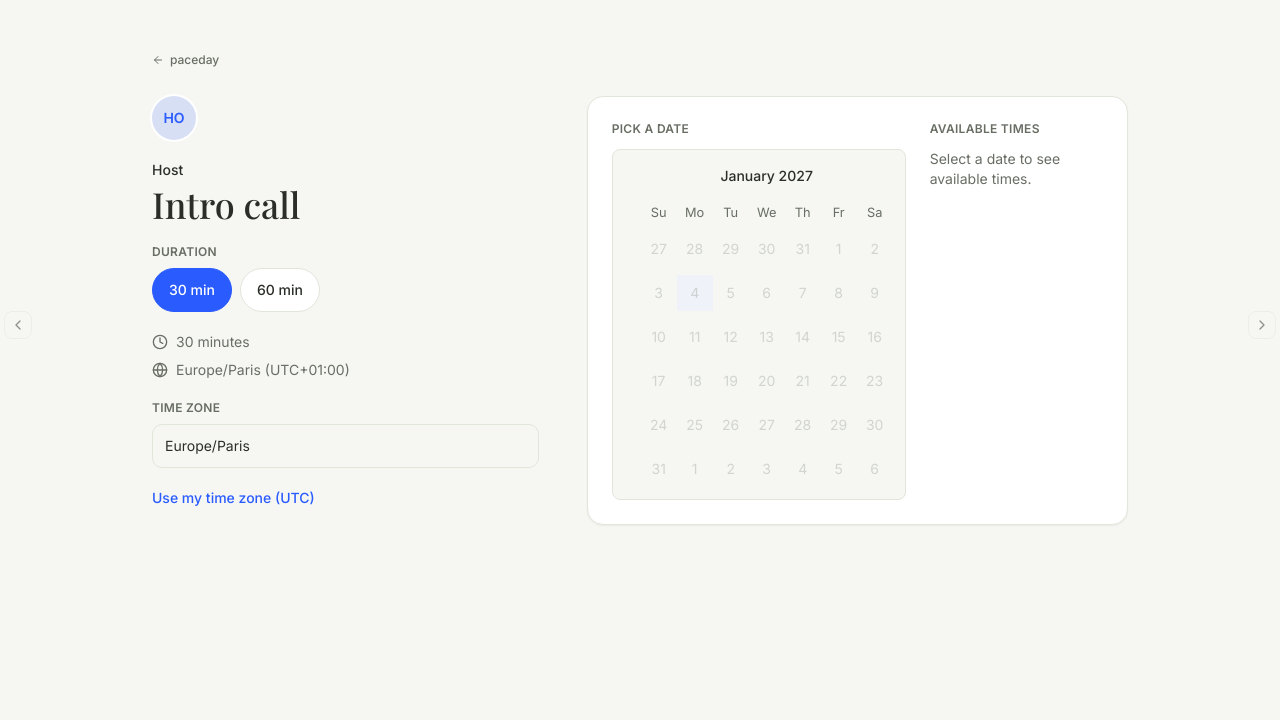
Test case: PAC-88 switcher on the page › AC-8: after switching to Asia/Tokyo, one action returns to the link's zone
The width and height of the screenshot is (1280, 720).
Step 1. Replace the text in the dropdown labelled "Time zone" with "Asia/Tokyo" → {"x": 345, "y": 446}, box 152,424 -> 539,468
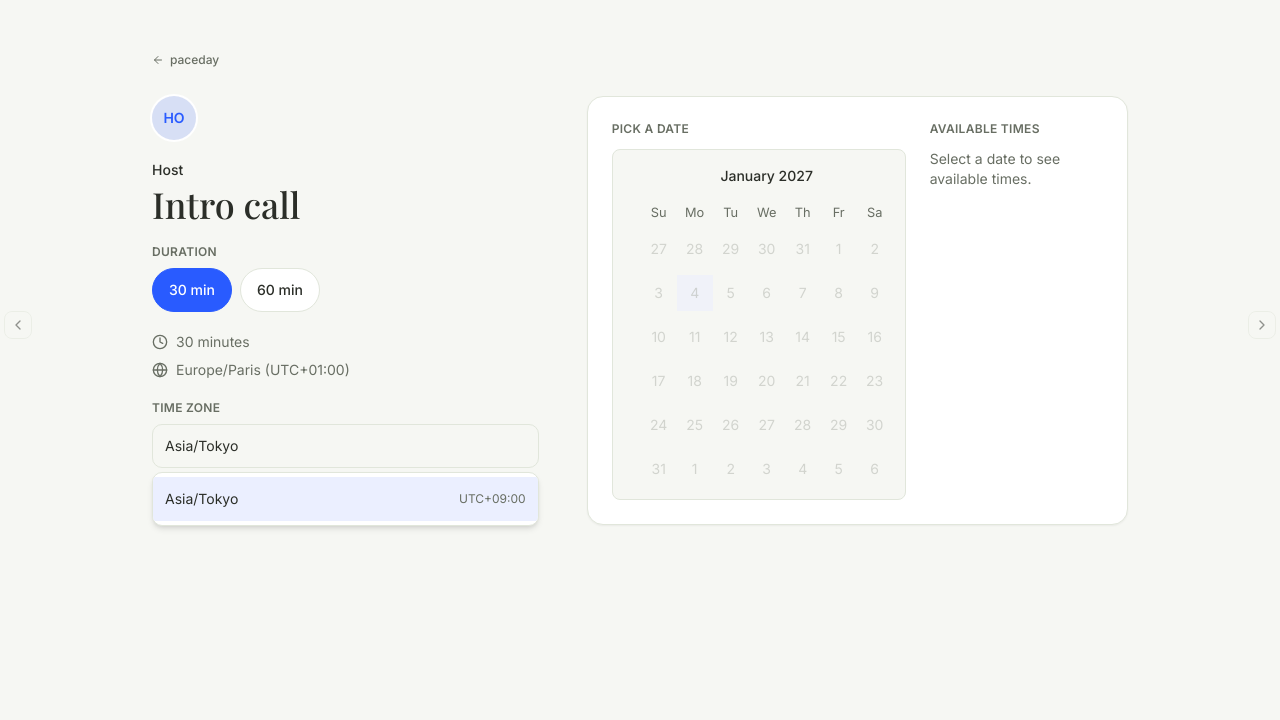
Step 2. Click the option "Asia/Tokyo UTC+09:00" → {"x": 202, "y": 498}, box 153,477 -> 538,521
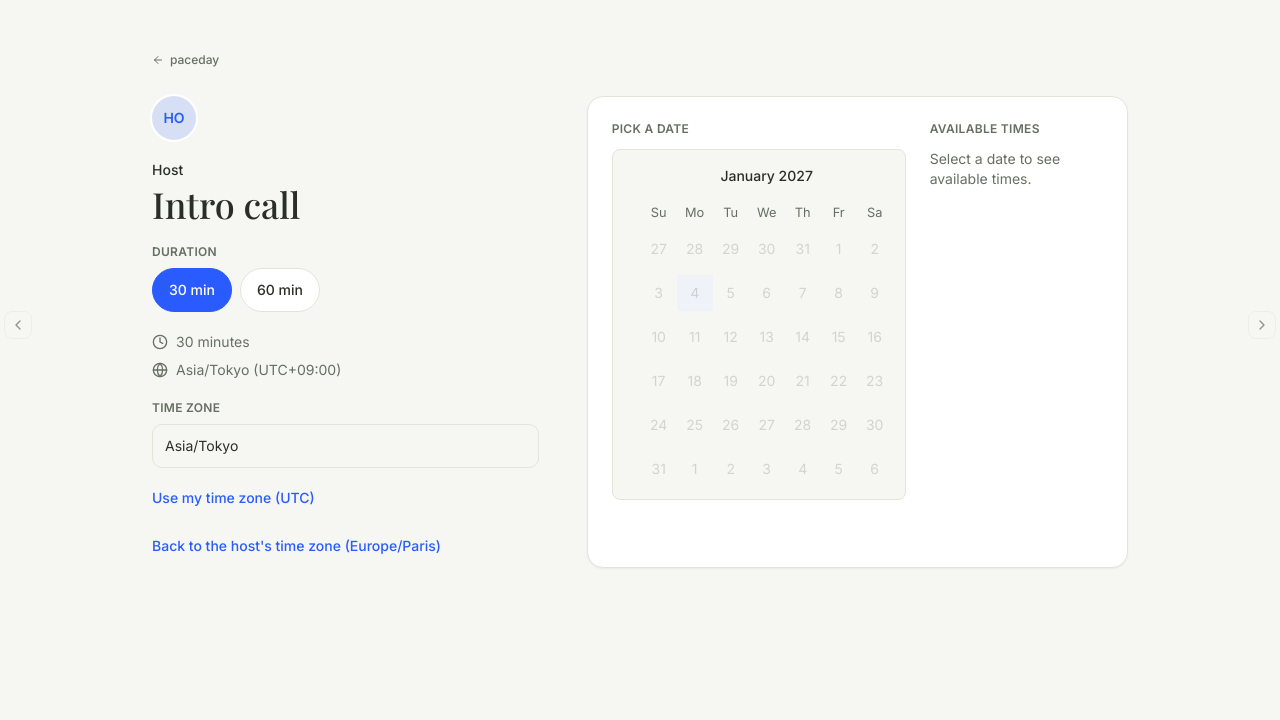
Expected: the text with test id "booking-tz-label" reads "Asia/Tokyo (UTC+09:00)", 176,361 -> 341,378
Step 3. Click the button with test id "booking-tz-back-to-host" → {"x": 296, "y": 546}, box 152,524 -> 441,568
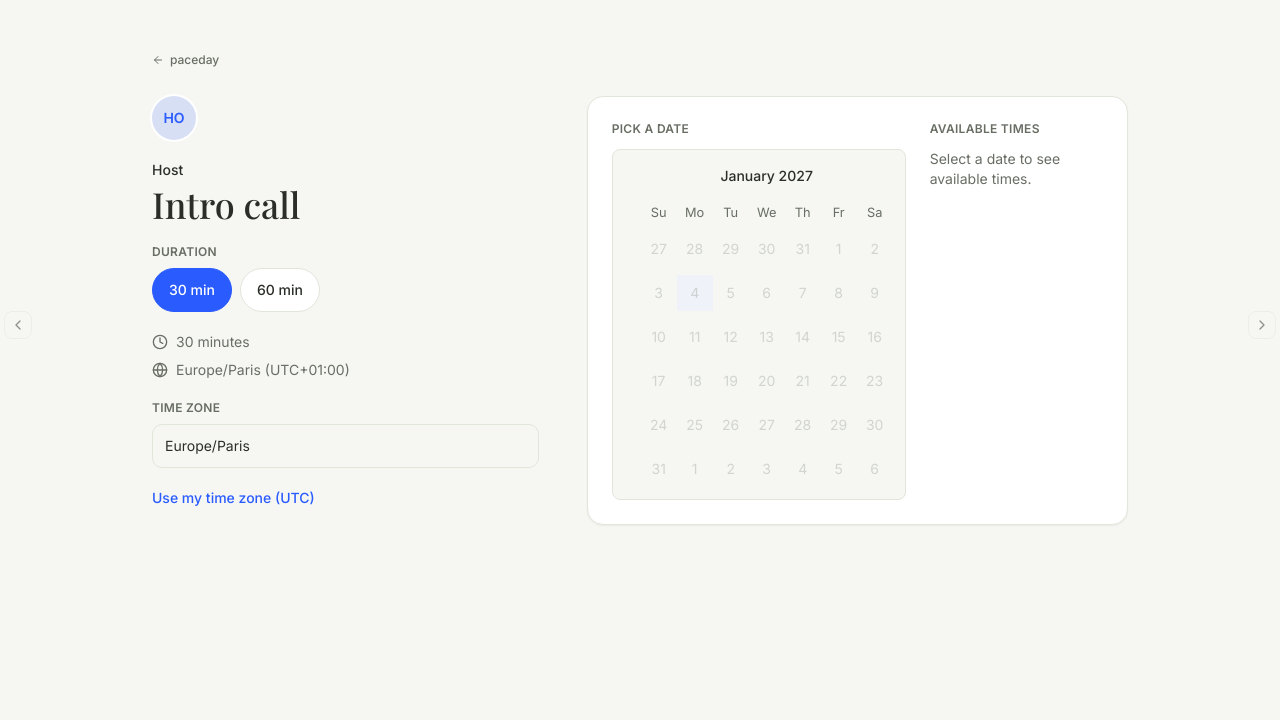
Expected: the text with test id "booking-tz-label" reads "Europe/Paris (UTC+01:00)", 176,361 -> 350,378
Expected: the button with test id "booking-tz-back-to-host" is gone
